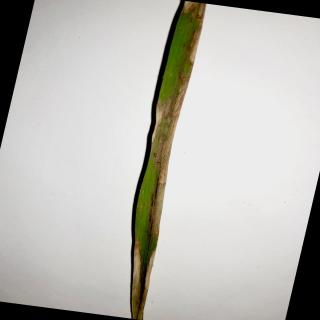Hawar-Daun: (147, 76, 191, 240), (130, 239, 157, 319), (185, 28, 204, 64), (173, 0, 209, 18)
